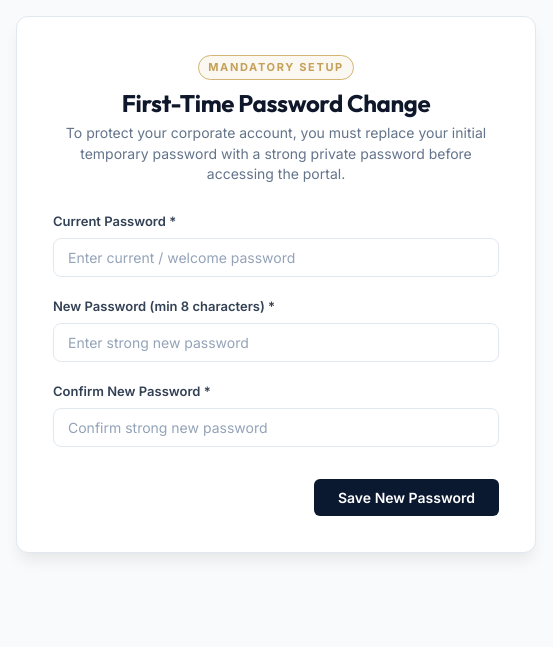
Test case: ChangePasswordPage Component (src/app/(portal)/settings/change-password/page.tsx) › shows error banner when server action returns failure with custom error
Type "wrong-current" into the password field labelled "Current Password *" at (276, 258), box x1=53 y1=238 x2=499 y2=277
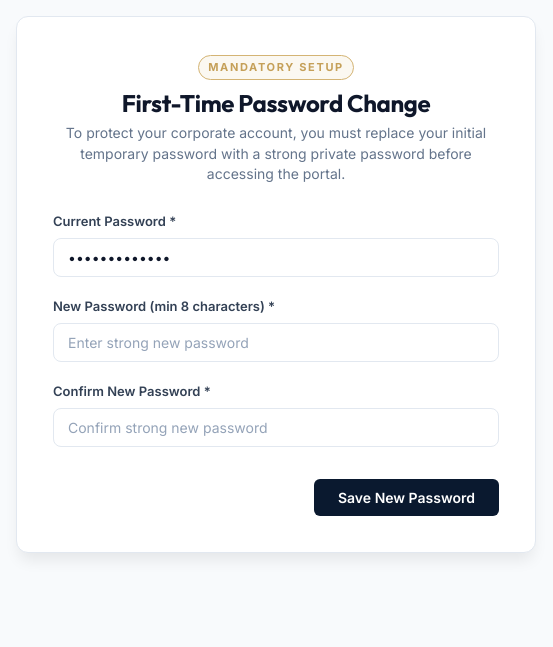
Type "brandNewPass123" into the password field labelled "New Password (min 8 characters) *" at (276, 342), box x1=53 y1=323 x2=499 y2=362
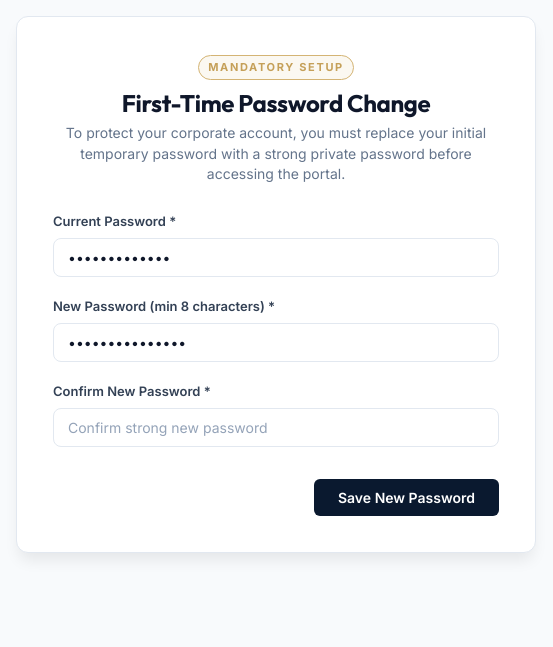
Type "brandNewPass123" into the password field labelled "Confirm New Password *" at (276, 427), box x1=53 y1=408 x2=499 y2=447
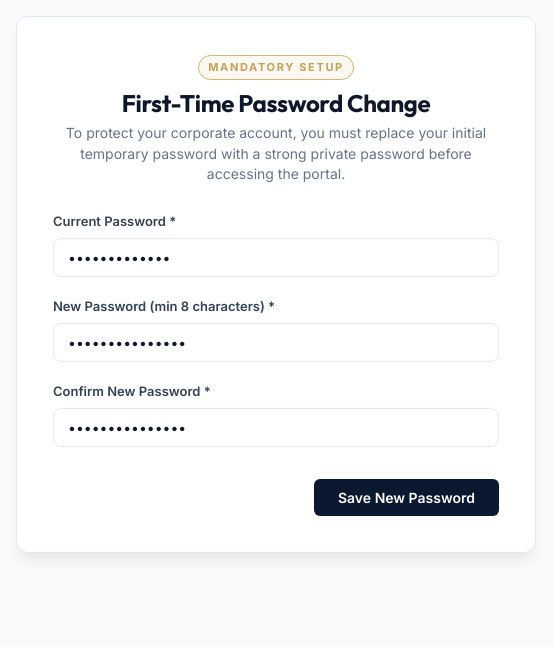
Click the button "Save New Password" at (406, 497), box x1=314 y1=479 x2=499 y2=516
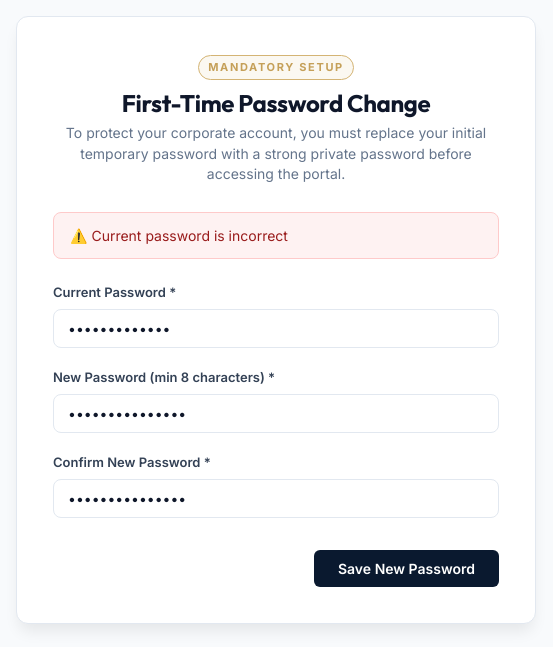
Now the text "⚠️ Current password is incorrect" is shown, box x1=70 y1=227 x2=288 y2=244
